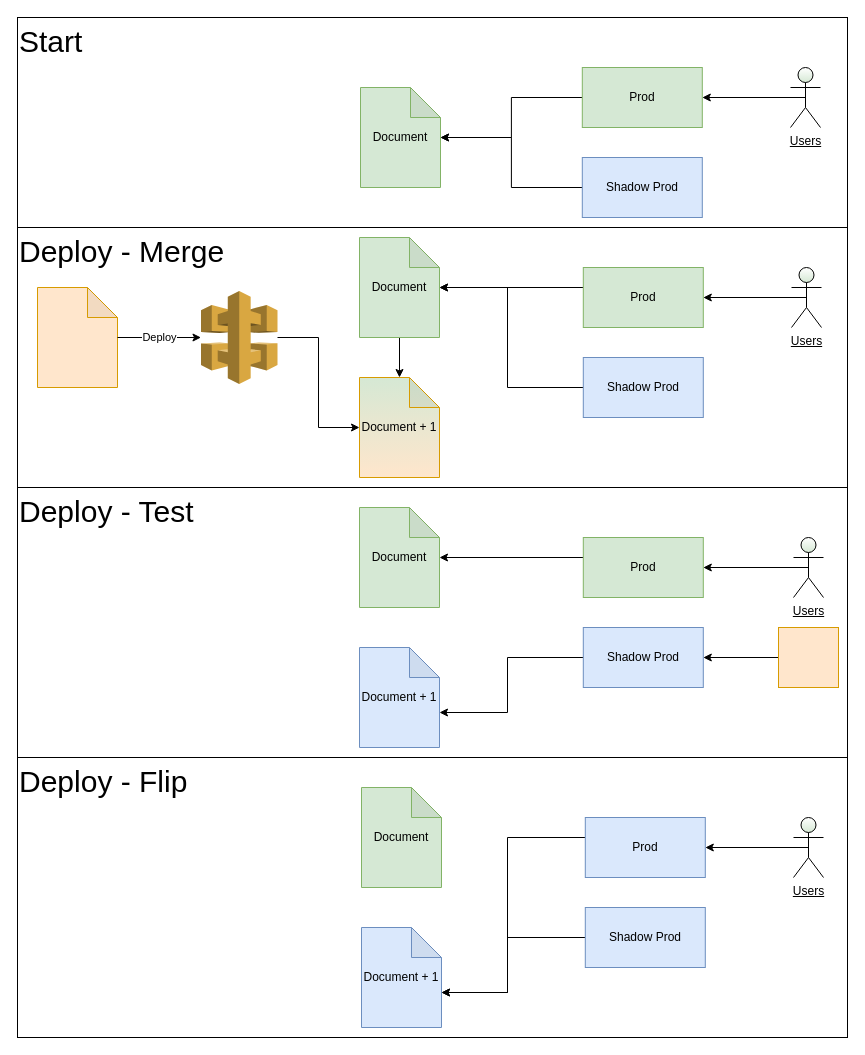
Some shapes in this 865 by 1055 pixel diagram are drawn without their labels. The shapes that lost their labels are listed below. From the top down, each one's centre as x and y in pixels, then its label:
At (77,337): "Request".
At (808,657): "Tests".
